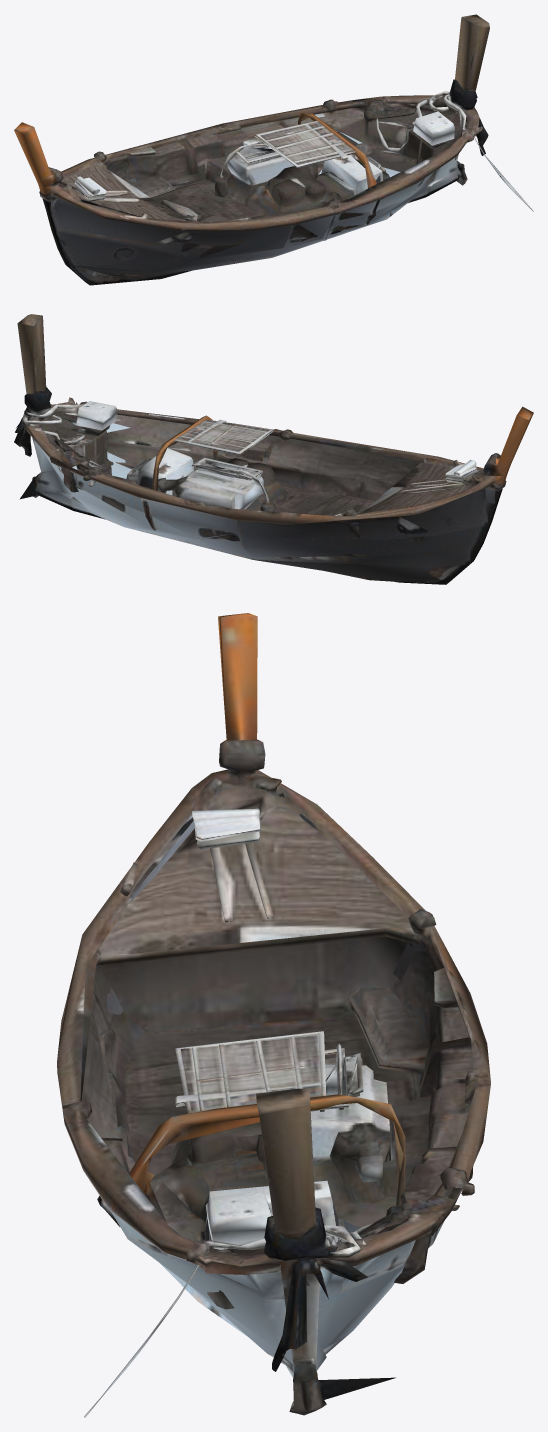
The model's file is longtail_boat.glb.
The picture shows the model from 3 angles, top to bottom: view 1: azimuth 30°, elevation 25°; view 2: azimuth 150°, elevation 25°; view 3: azimuth 270°, elevation 25°; orthographic projection. The views are drawn at different scales.
Parts seen in each view (by area): view 1: Body; view 2: Body; view 3: Body.
Part boxes in pixels (x1=…): Body: x1=14, y1=14, x2=533, y2=285; Body: x1=14, y1=314, x2=533, y2=584; Body: x1=57, y1=613, x2=490, y2=1417.
Size of the model in its own units: 6.99 by 2.68 by 2.71.
1 material, 1 textured.
